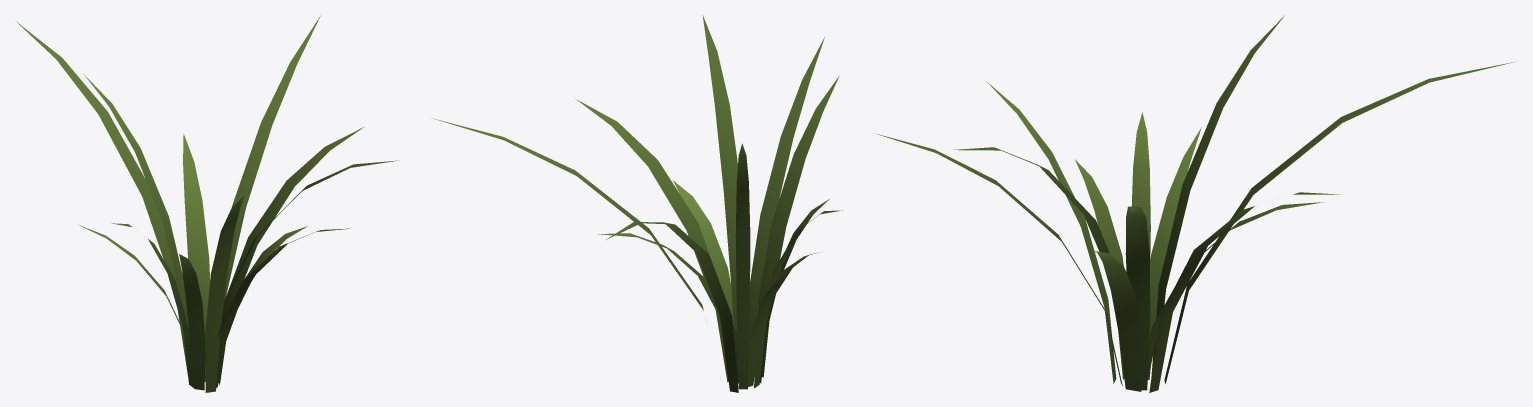
The model's file is MeadowGrass_1_lod0.glb.
3 renders of one model, left to right at view 1: azimuth 30°, elevation 25°; view 2: azimuth 150°, elevation 25°; view 3: azimuth 270°, elevation 25°, orthographic. The views are drawn at different scales.
Parts seen in each view (by area): view 1: MeadowGrass_1_lod0; view 2: MeadowGrass_1_lod0; view 3: MeadowGrass_1_lod0.
Boxes of the visible parts, <box> form: MeadowGrass_1_lod0: <box>16,15,399,392</box>; MeadowGrass_1_lod0: <box>432,15,842,392</box>; MeadowGrass_1_lod0: <box>874,15,1515,392</box>.
Bounding box in the file's own units: 0.4062 × 0.3563 × 0.6242.
